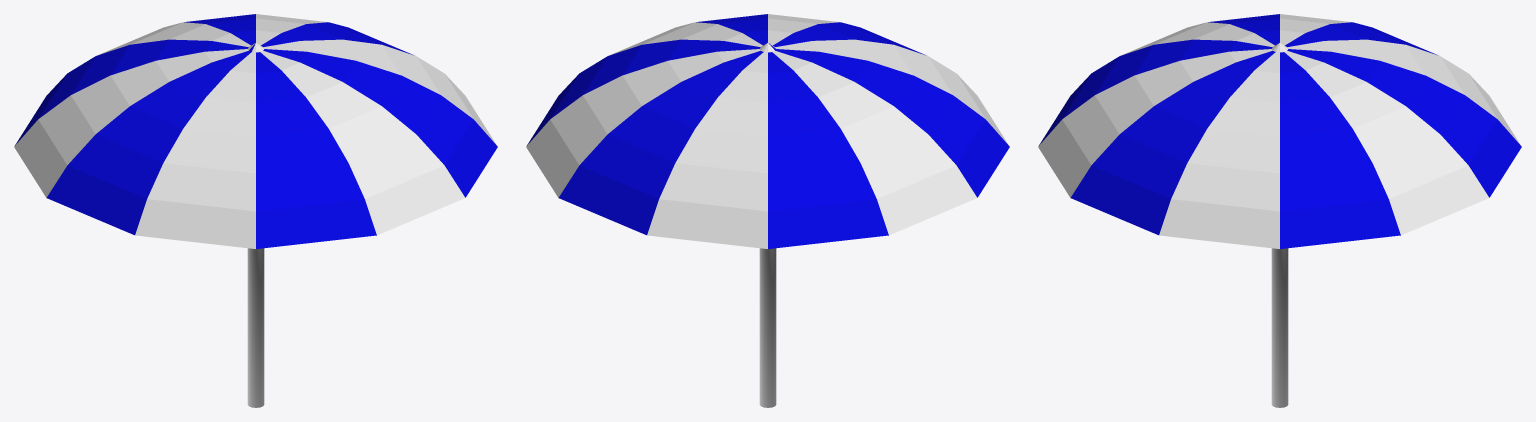
Rendered from Sombrilla4.fbx.
3 renders of one model, left to right at view 1: azimuth 30°, elevation 25°; view 2: azimuth 150°, elevation 25°; view 3: azimuth 270°, elevation 25°, orthographic.
Parts seen in each view (by area): view 1: Sombrilla.001, Palo.001; view 2: Sombrilla.001, Palo.001; view 3: Sombrilla.001, Palo.001.
Part boxes in pixels (box(x1,y1,x2,y2)): Sombrilla.001: box(14, 14, 497, 248); Palo.001: box(247, 248, 264, 407); Sombrilla.001: box(526, 14, 1009, 248); Palo.001: box(759, 248, 776, 407); Sombrilla.001: box(1038, 14, 1521, 248); Palo.001: box(1271, 248, 1288, 407).
Size of the model in its own units: 276 by 227 by 276.
